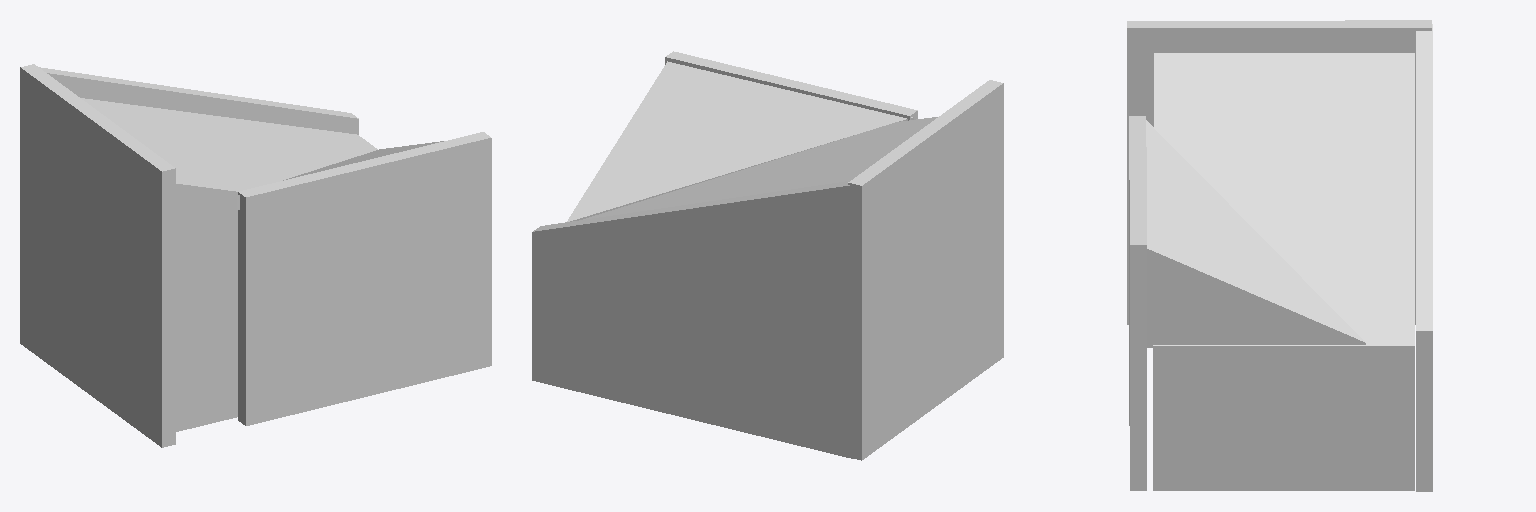
The robot description file, URDF, robot "table":
<?xml version="1.0"?>
<robot name="table">
  <link name="world">
    <visual>
      <origin rpy="0.0 0 1.57" xyz="-0.48 0.78 0.0"/>
      <geometry>
	  <mesh filename="package://rvc_dynamic_motion_controller_tradeshows/meshes/ramp.dae" scale="0.1 0.1 0.1"/>
      </geometry>
    </visual>
  </link>
</robot>

--- Facts derived from the render (not from the file) ---
3 views of the same robot in one strip: view 1: azimuth 30°, elevation 25°; view 2: azimuth 150°, elevation 25°; view 3: azimuth 270°, elevation 25° (orthographic).
Robot: table — 1 links, 0 joints (none); root link world; default pose: all joints at 0.
Visible links, largest first — view 1: world; view 2: world; view 3: world.
Boxes of the visible links, bbox=[...] form: world: bbox=[20, 64, 491, 447]; world: bbox=[532, 51, 1003, 460]; world: bbox=[1127, 20, 1432, 491].
Size in the robot's own frame: 0.2763 by 0.2057 by 0.2202 metres.
1 mesh visuals loaded from 1 distinct referenced files (1 Collada DAE).